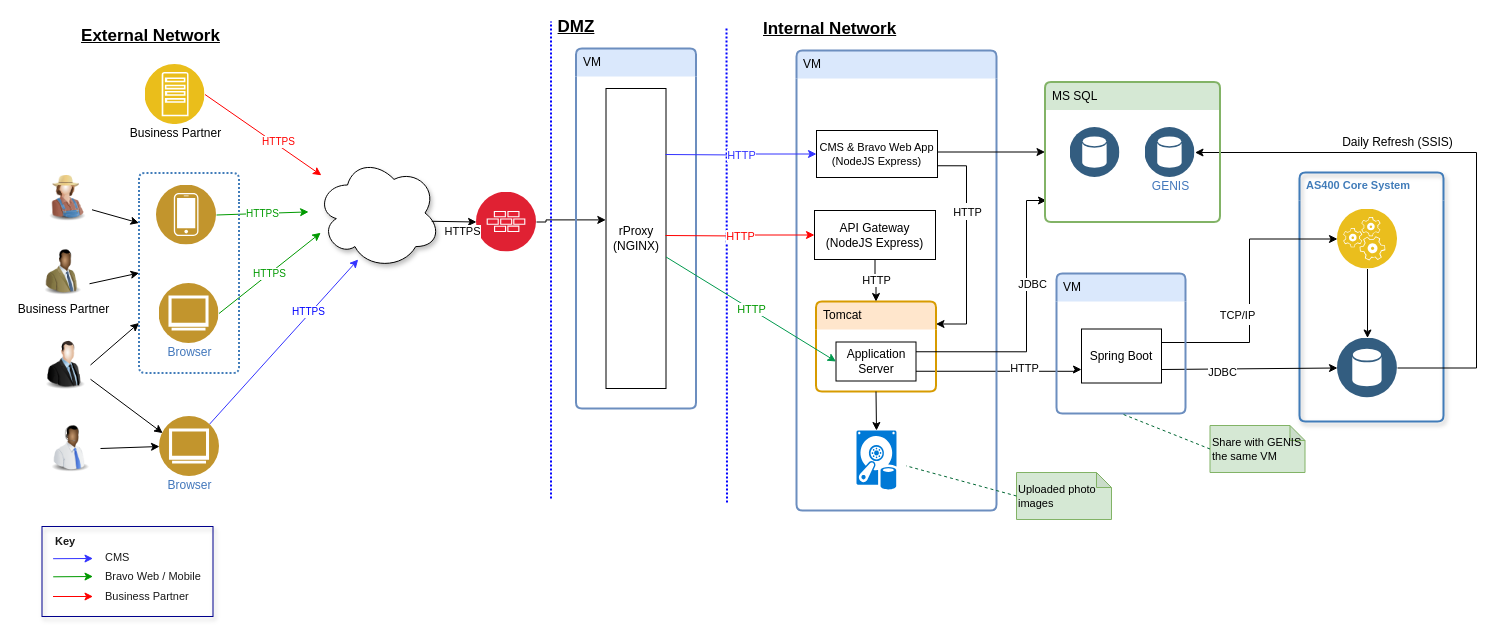
Some shapes in this 1502 by 641 pixel diagram are drawn without their labels. Here are the shapes that lost their labels. From the top down, the centre of each, then its label:
the point at 1095,152: Bravo
the point at 67,196: Client
the point at 186,214: Mobile Device
the point at 506,222: Firewall
the point at 1367,238: CLP
the point at 65,364: Broker
the point at 1367,368: Data Files
the point at 70,448: Operation Staff
the point at 876,459: Local Disk
